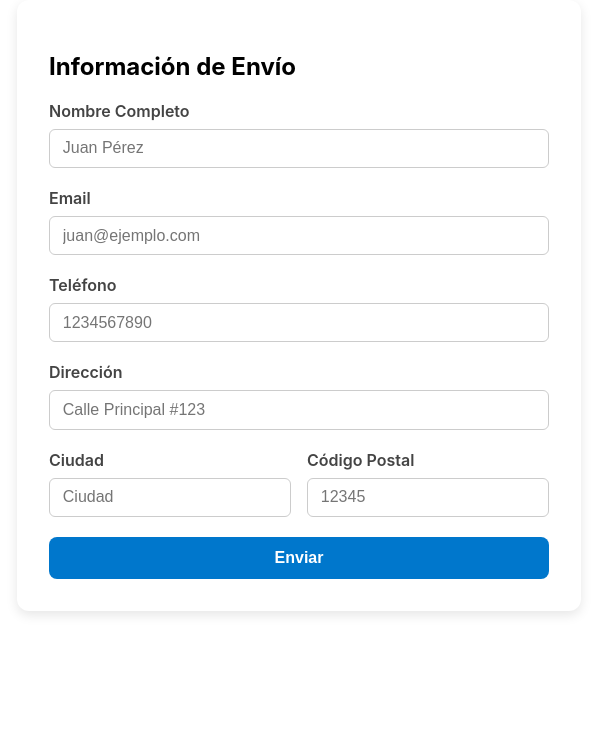
Test: DeliveryForm Component › shows validation errors when fields are empty
Click the button "Enviar": (299, 558) [49,537,549,579]
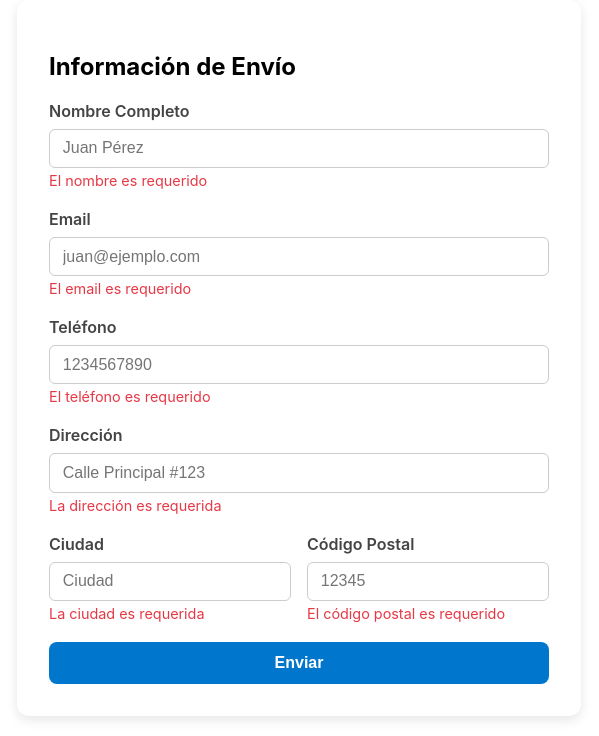
Check: the text "El nombre es requerido" is shown, box [49,172,207,189]
Check: the text "El email es requerido" is shown, box [49,280,191,297]
Check: the text "El teléfono es requerido" is shown, box [49,388,210,405]
